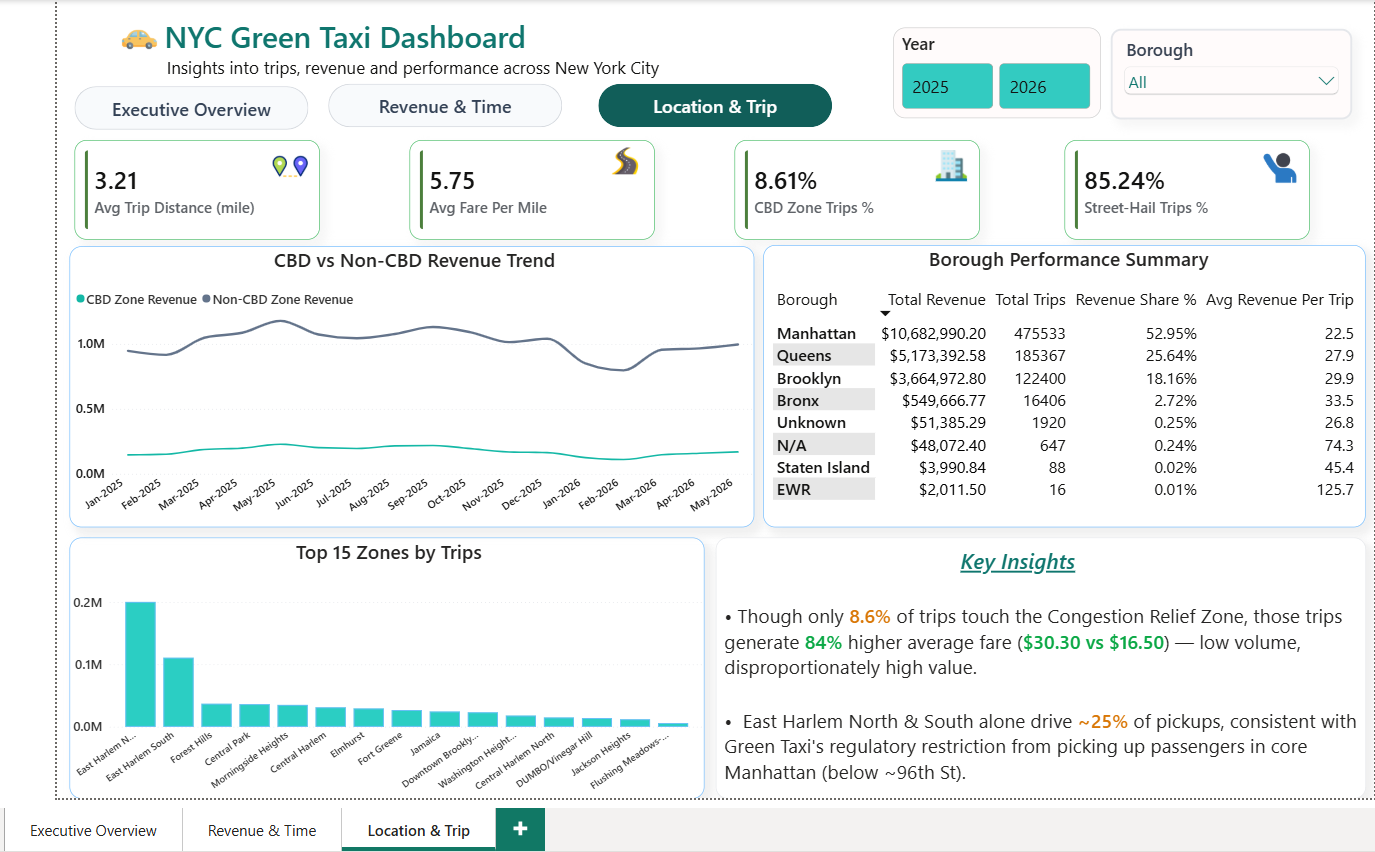

The page's visual inventory and layout, read from the dashboard file:
{"tool":"powerbi","page":{"name":"Location & Trip","canvas":[1650,1000],"ordinal":2},"visuals":[{"type":"cardVisual","fields":{"Data":["_Measure .Avg Trip Distance"]},"box":[15.7,167.5,307,125],"z":0},{"type":"cardVisual","fields":{"Data":["_Measure .Avg Fare Per Mile"]},"box":[425.8,167.5,307,125],"z":1000},{"type":"cardVisual","fields":{"Data":["_Measure .CBD Zones Trips%"]},"box":[864.1,167.5,307,125],"z":2000},{"type":"clusteredColumnChart","title":"Top 15 Zones by Trips","fields":{"Category":["taxi_zone_lookup.Zone"],"Y":["_Measure .Total Trips"]},"box":[15.7,659.1,870.4,336.6],"z":3000},{"type":"cardVisual","fields":{"Data":["_Measure .Street-Hail Trips %"]},"box":[1283.7,167.5,307,125],"z":4000},{"type":"lineChart","title":"CBD vs Non-CBD Revenue Trend","fields":{"Category":["Calender Table.Month Year"],"Y":["_Measure .CBD Zone Revenue","_Measure .Non-CBD Zone Revenue"]},"box":[15.7,299,870,356],"z":5000},{"type":"pivotTable","title":"Borough Performance Summary","fields":{"Rows":["taxi_zone_lookup.Borough"],"Values":["_Measure .Total Revenue","_Measure .Total Trips","_Measure .Revenue Share %","_Measure .Avg Revenue Per Trip"]},"box":[890.7,299,760,360],"z":6000},{"type":"textbox","box":[56.4,0,724.8,104.9],"z":7000},{"type":"image","box":[68.9,0,68.9,45.4],"z":8000},{"type":"actionButton","box":[677.8,104.9,293,54.3],"z":9000},{"type":"actionButton","box":[339.7,105.3,293,54.3],"z":10000},{"type":"actionButton","box":[22.1,108.7,293,54.3],"z":11000},{"type":"slicer","fields":{"Values":["taxi_zone_lookup.Borough"]},"box":[1324.4,23.5,302.3,113.8],"z":12000},{"type":"textbox","box":[890.7,670,753,330.3],"z":13000},{"type":"image","box":[677.8,181.6,45,42],"z":14000},{"type":"image","box":[1113,181.6,45,42],"z":15000},{"type":"image","box":[258.3,180,45.4,42],"z":16000},{"type":"image","box":[1532.6,181.6,45,42],"z":17000},{"type":"advancedSlicerVisual","fields":{"Values":["Calender Table.Year"]},"box":[1041,23.5,259.9,113.8],"z":18000}]}

Visuals, with their boxes in screenshot pixels (x1, y1, x2, y2), scaled from the page's 1650x1000 canvas onto the 1375x852 screenshot:
cardVisual - _Measure .Avg Trip Distance: BBox(13, 143, 269, 249)
cardVisual - _Measure .Avg Fare Per Mile: BBox(355, 143, 611, 249)
cardVisual - _Measure .CBD Zones Trips%: BBox(720, 143, 976, 249)
"Top 15 Zones by Trips" clusteredColumnChart: BBox(13, 562, 738, 848)
cardVisual - _Measure .Street-Hail Trips %: BBox(1070, 143, 1326, 249)
"CBD vs Non-CBD Revenue Trend" lineChart: BBox(13, 255, 738, 558)
"Borough Performance Summary" pivotTable: BBox(742, 255, 1374, 561)
textbox: BBox(47, 0, 651, 89)
image: BBox(57, 0, 115, 39)
actionButton: BBox(565, 89, 809, 136)
actionButton: BBox(283, 90, 527, 136)
actionButton: BBox(18, 93, 263, 139)
slicer - taxi_zone_lookup.Borough: BBox(1104, 20, 1356, 117)
textbox: BBox(742, 571, 1370, 851)
image: BBox(565, 155, 602, 191)
image: BBox(928, 155, 965, 191)
image: BBox(215, 153, 253, 189)
image: BBox(1277, 155, 1315, 191)
advancedSlicerVisual - Calender Table.Year: BBox(868, 20, 1084, 117)
